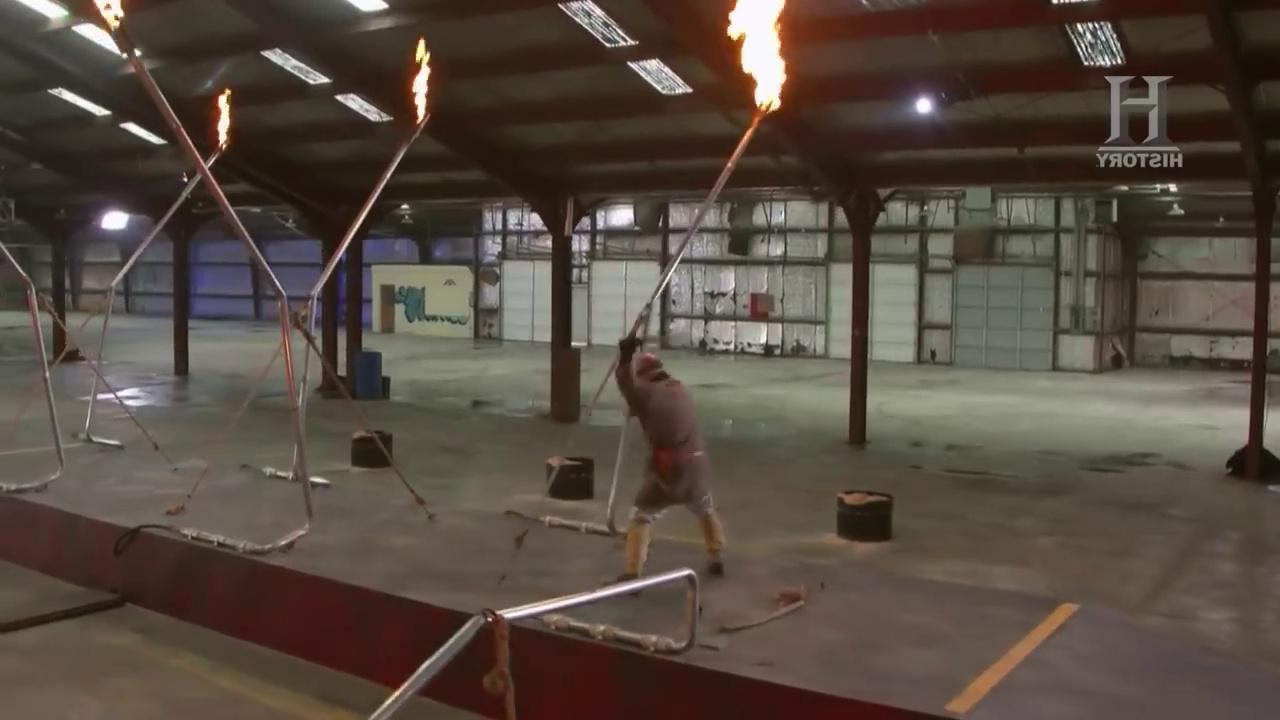Fire: (720, 8, 808, 112), (390, 40, 454, 124), (200, 90, 260, 153)
